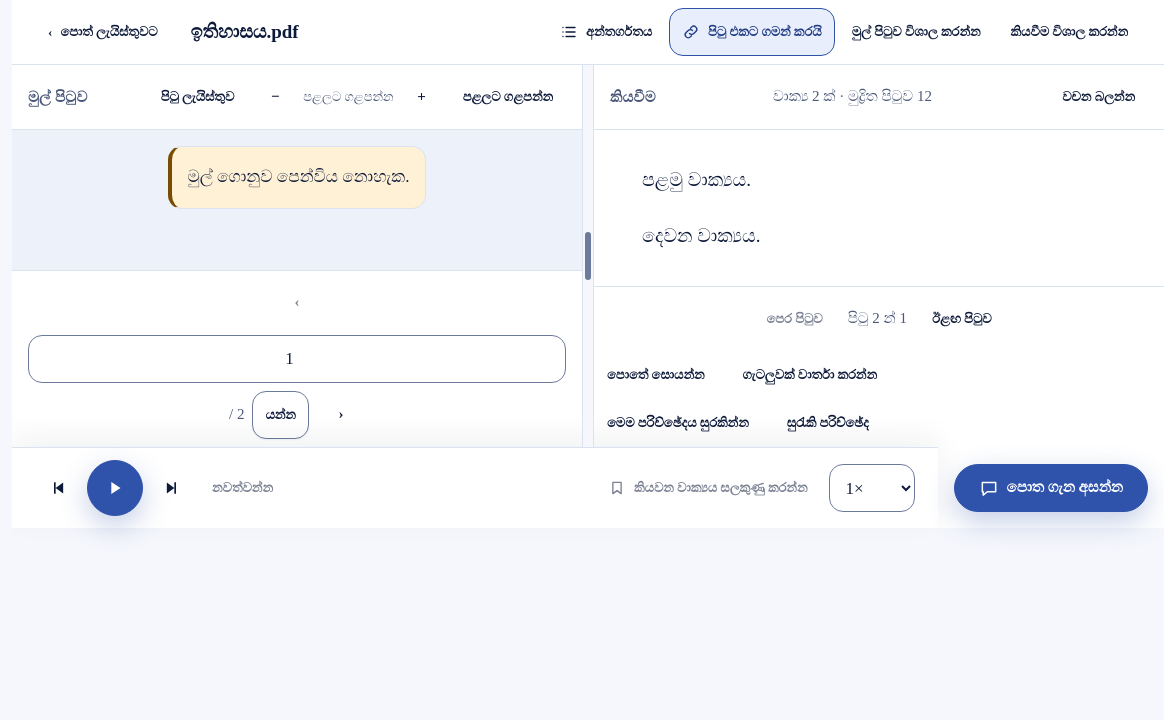
arriving at a page › shows word boundaries for the selected sentence without starting audio
Click the button "වචන බලන්න". click: (1099,97)
box: [1049,73,1148,121]
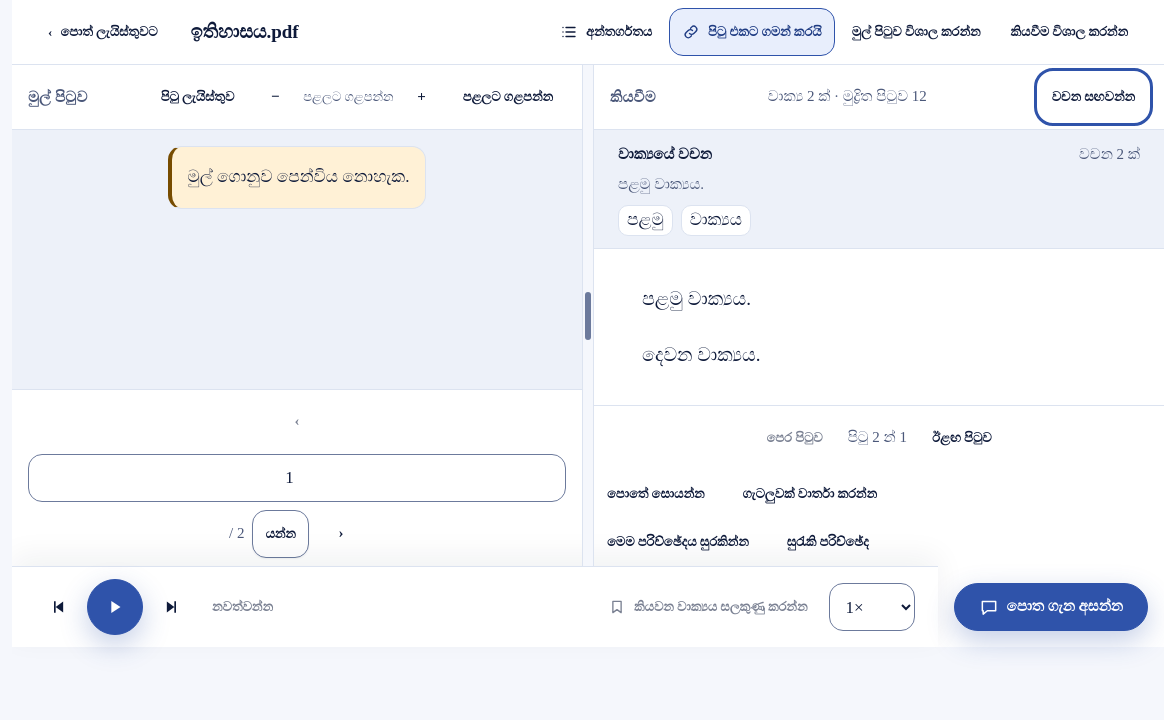
expect the list items read "පළමු", "වාක්‍යය", in this order: met, box [618,205,673,236]; [681,205,751,236]
Click the button "දෙවන වාක්‍යය.". click: (701,354)
box: [626,329,1132,381]
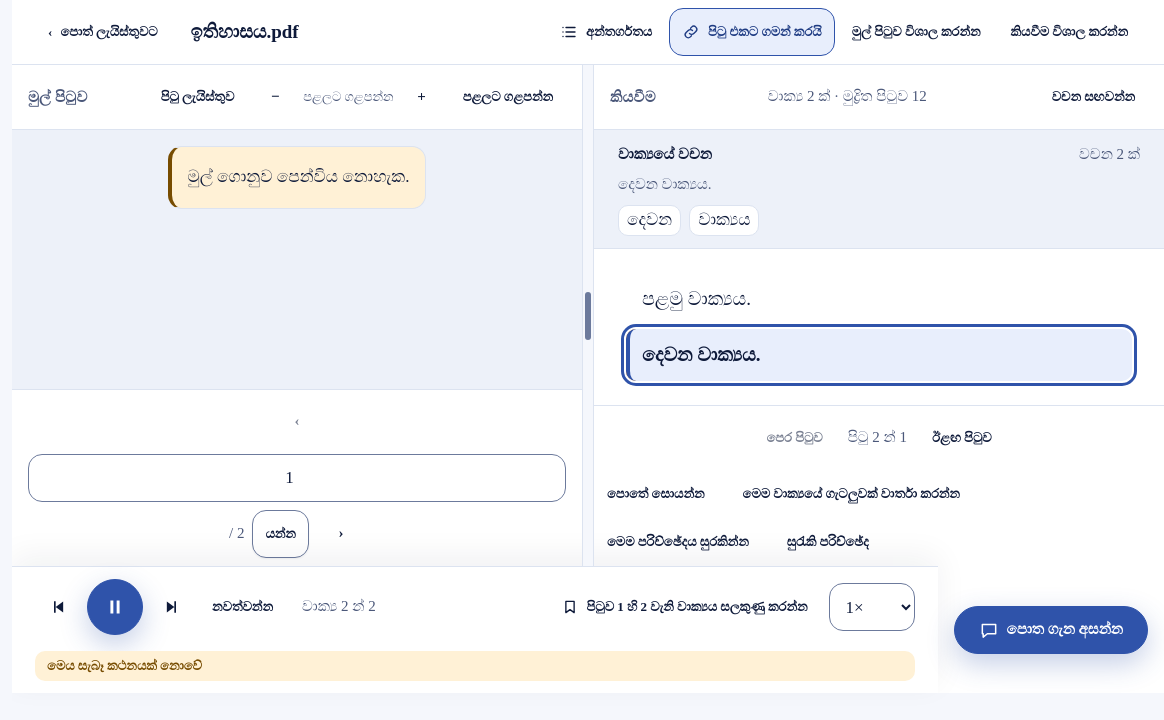
expect the element "වාක්‍යයේ වචන" shows "දෙවන වාක්‍යය.": met, box [618,176,712,192]
expect the list items read "දෙවන", "වාක්‍යය", in this order: met, box [618,205,681,236]; [689,205,760,236]
